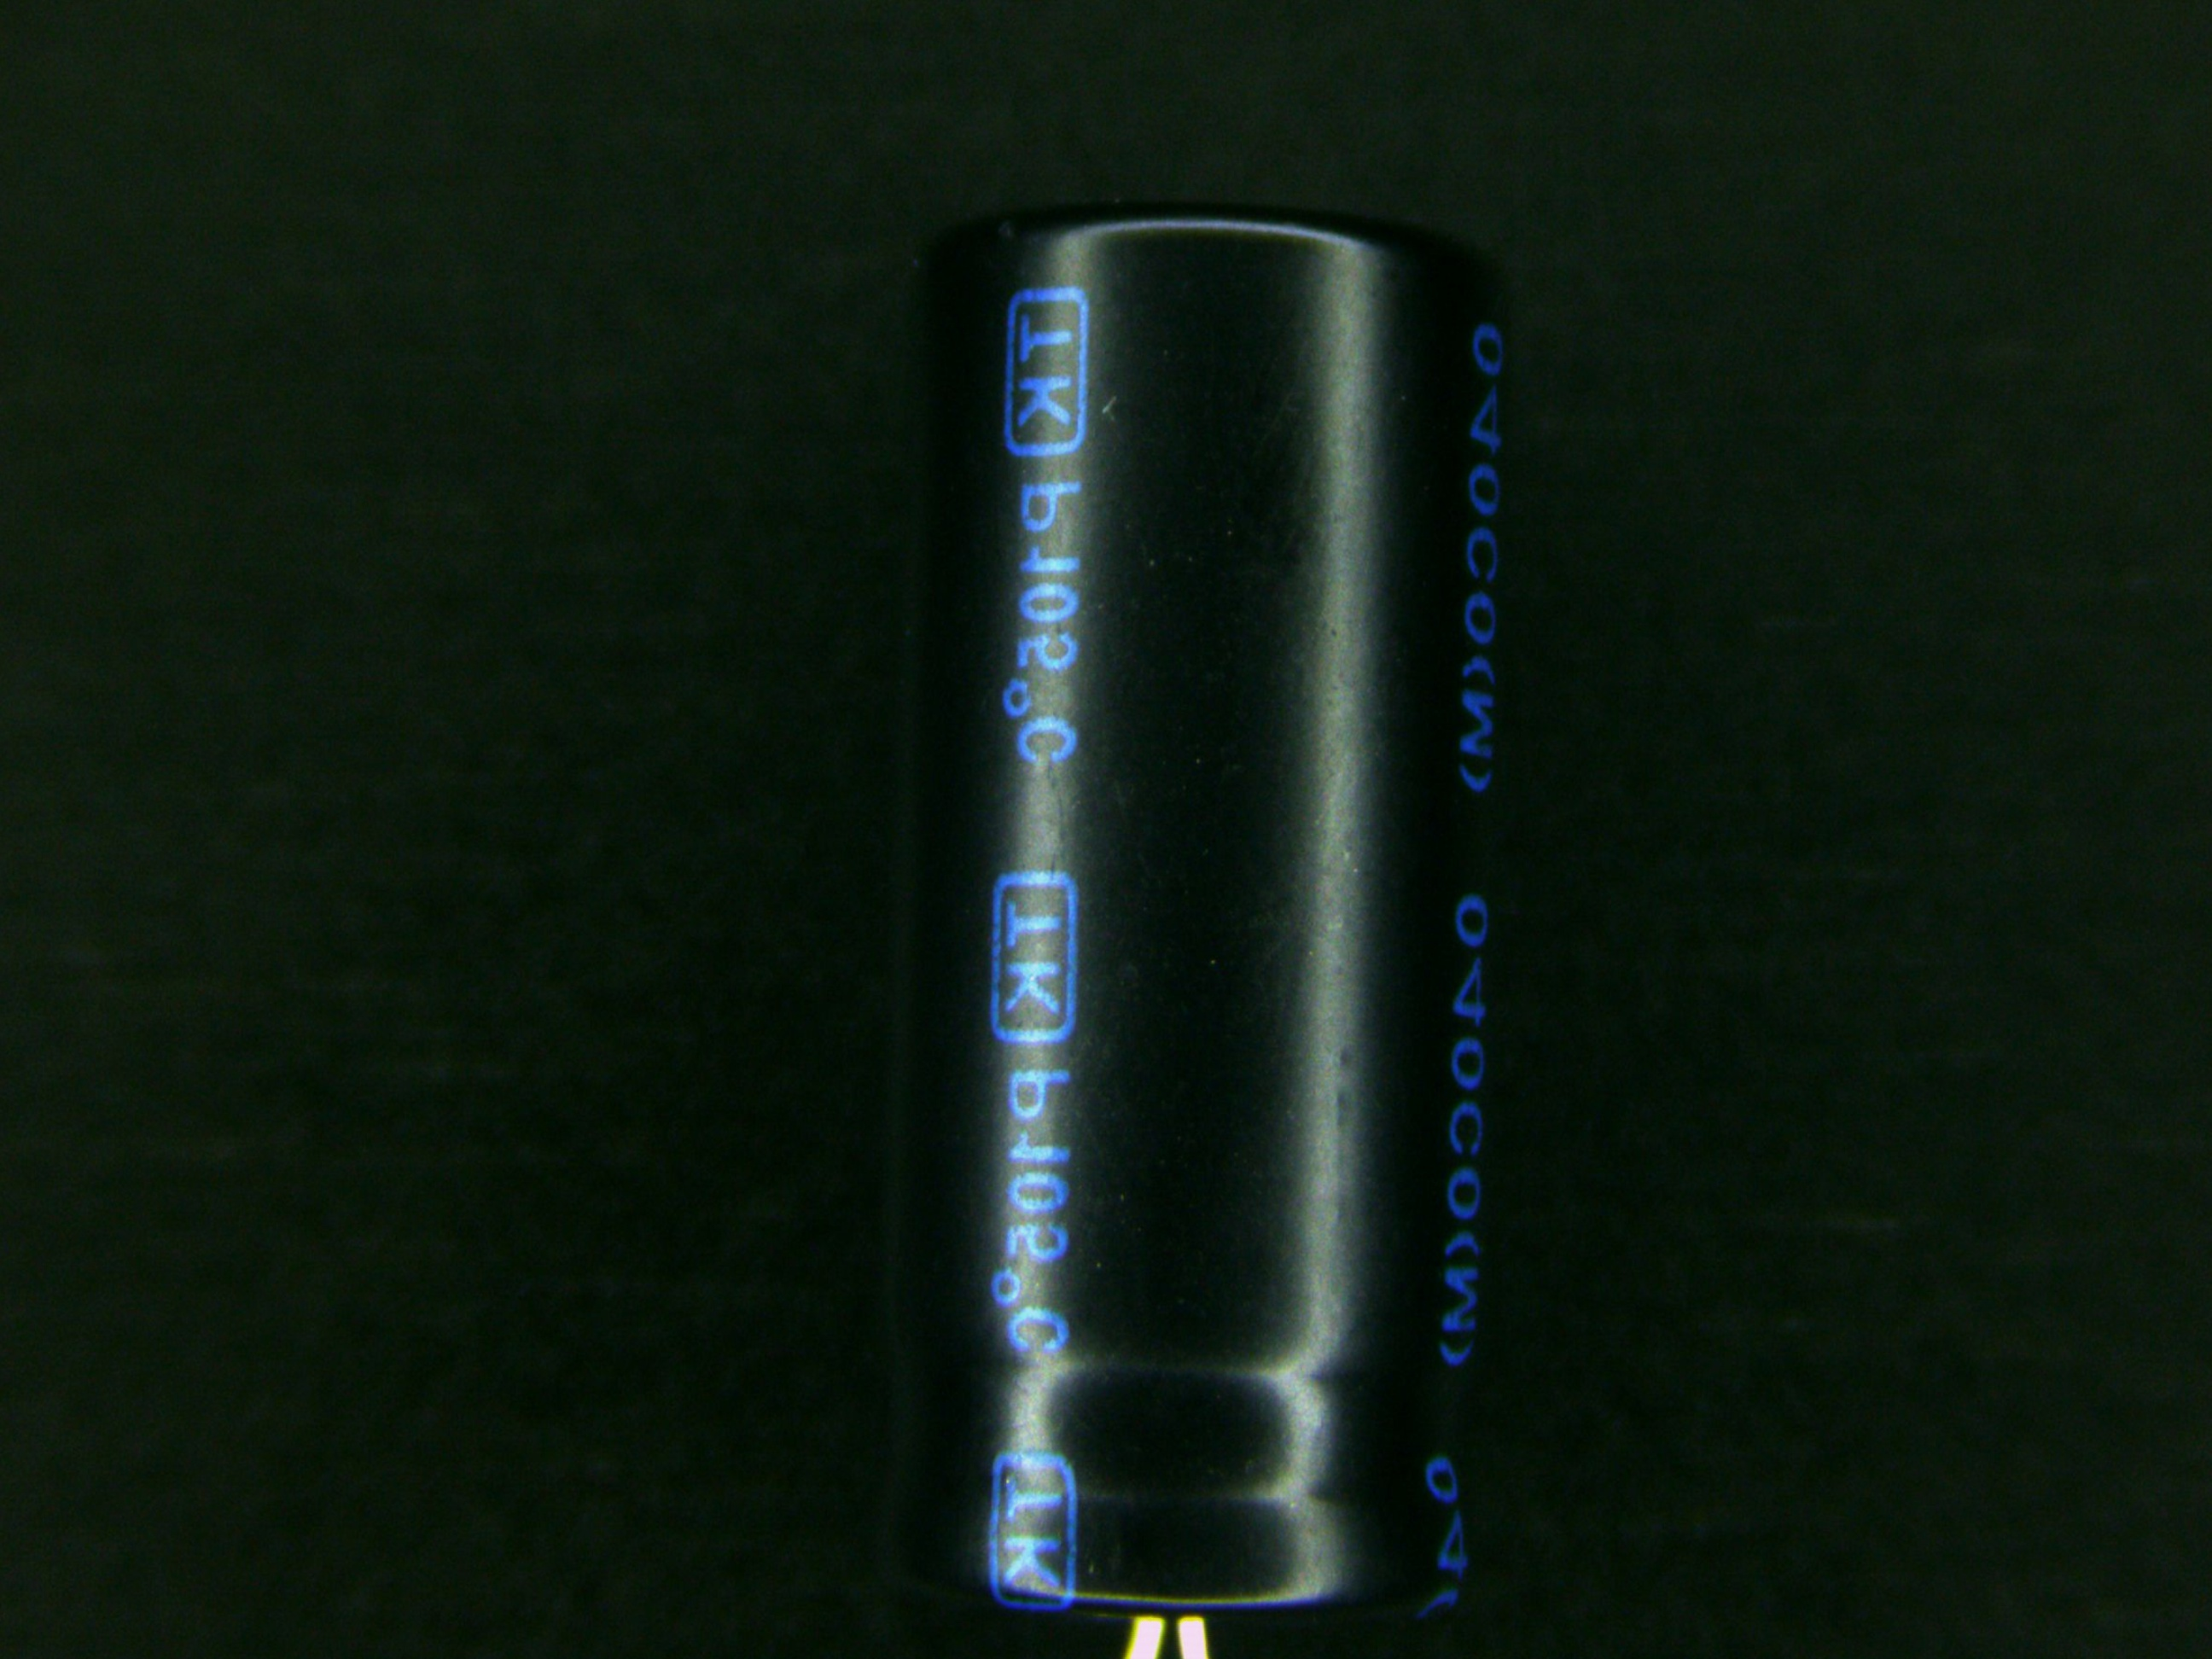c2: (876, 204, 1534, 1659)
